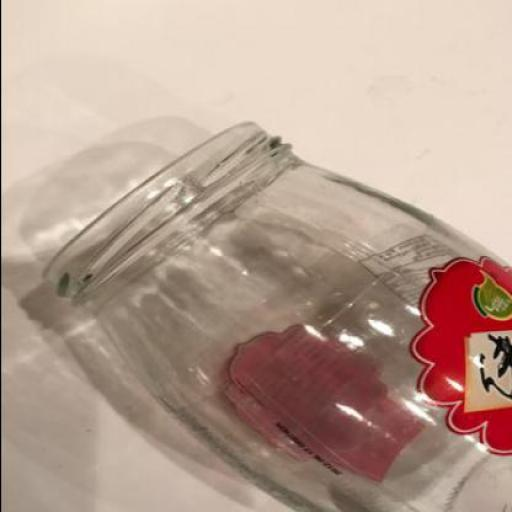glass: (44, 119, 511, 512)
